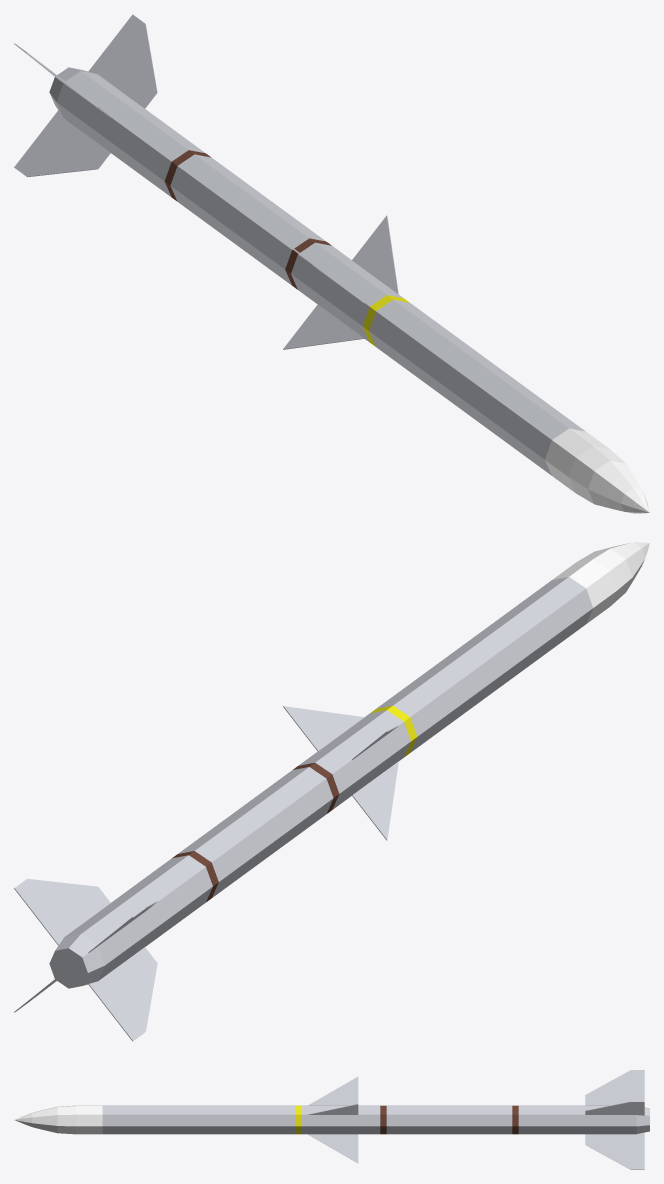
File: AIM-120.glb
3 renders of one model, top to bottom at view 1: azimuth 30°, elevation 25°; view 2: azimuth 150°, elevation 25°; view 3: azimuth 270°, elevation 25°, orthographic. The views are drawn at different scales.
Visible parts, largest first — view 1: Cylinder; view 2: Cylinder; view 3: Cylinder.
Boxes of the visible parts, x1=… form: Cylinder: x1=14, y1=14, x2=649, y2=513; Cylinder: x1=14, y1=542, x2=649, y2=1041; Cylinder: x1=14, y1=1070, x2=649, y2=1169.
Size of the model in its own units: 0.4274 by 0.4274 by 3.61.
1 material, 1 textured.
